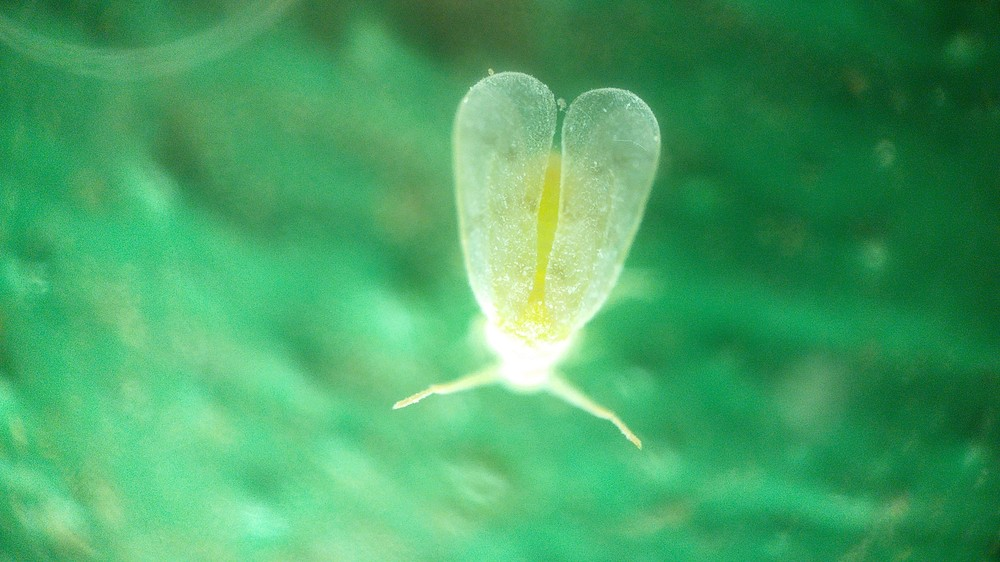Mosca Blanca: (371, 53, 711, 476)
